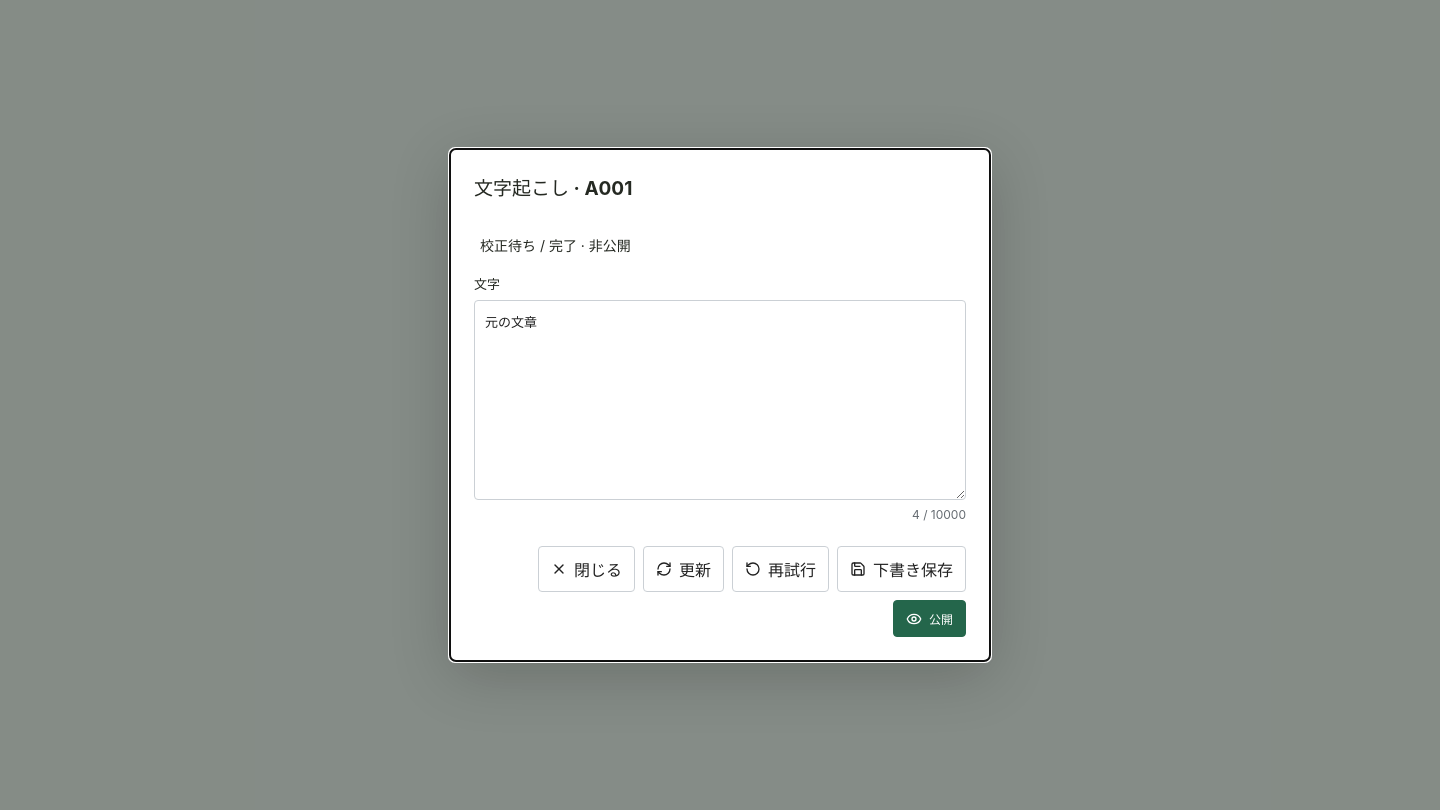
Test: does not reuse a consumed version after a save succeeds but its follow-up read fails
Replace the text in the text box labelled "文字" with "校正を保つ". click: x=720, y=400
box: [474,300,966,500]
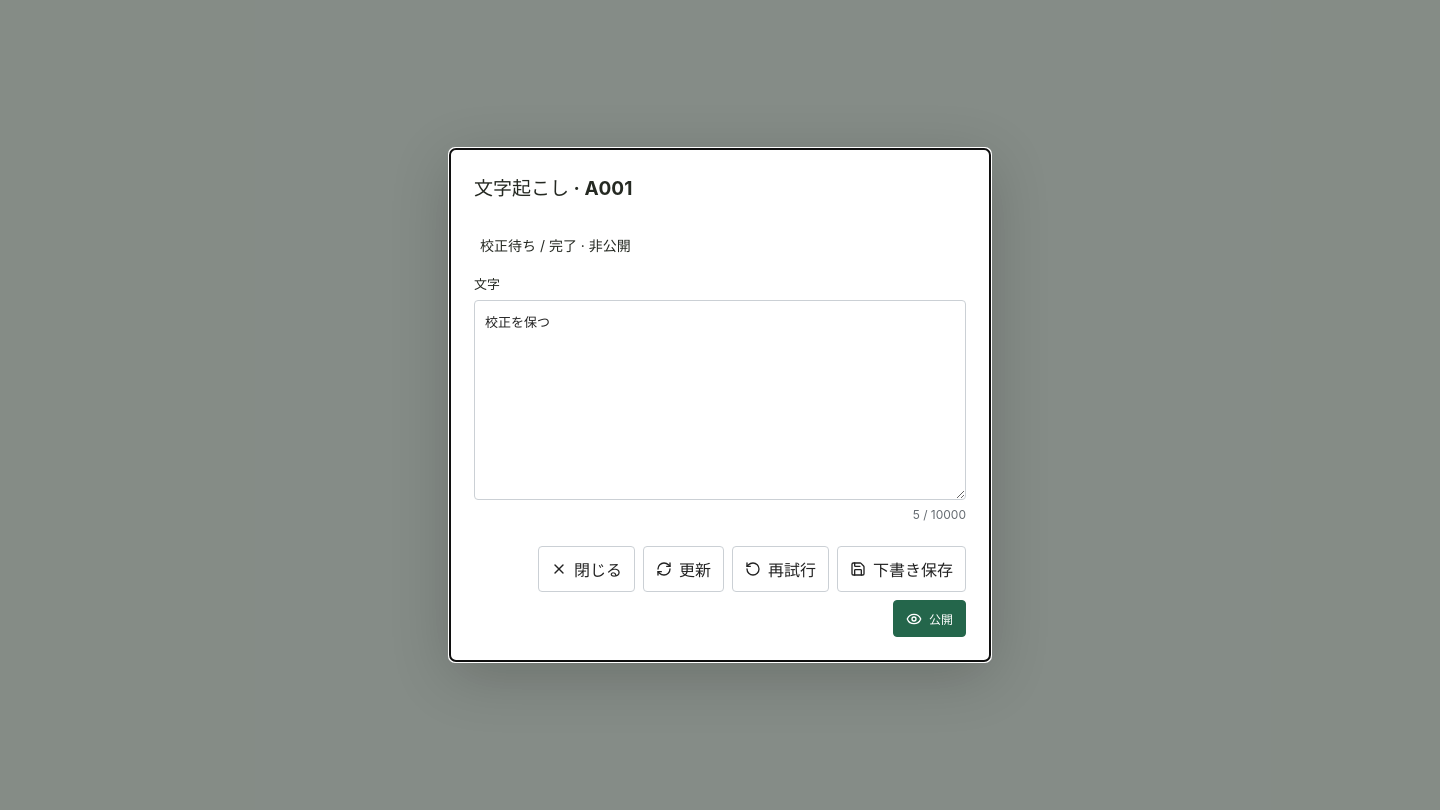
Click the button "下書き保存". click: x=902, y=569
box: [837,546,966,592]
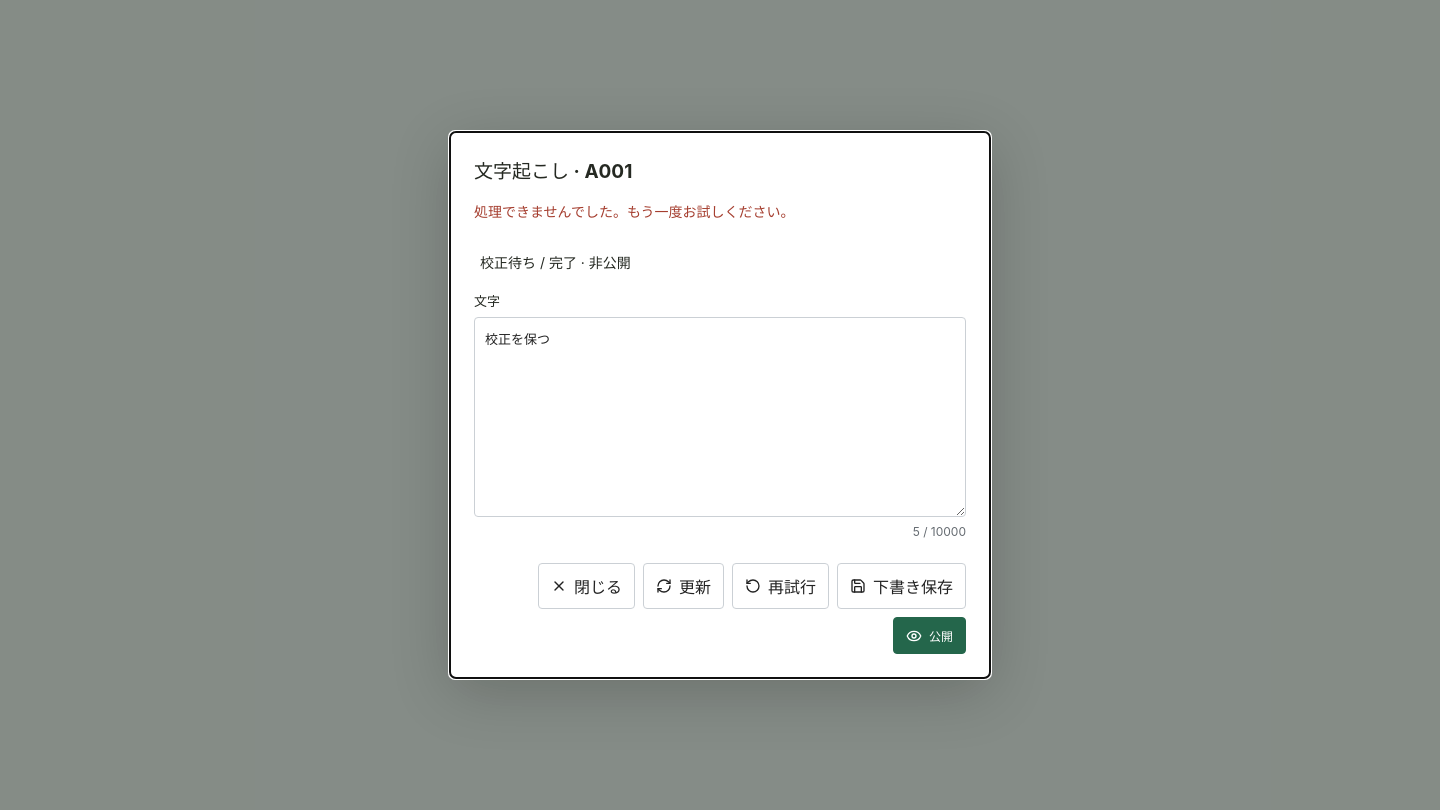
Check: the message "処理できませんでした。もう一度お試しください。" is shown, box [474,203,794,220]
Check: the button "公開" is disabled, box [893,617,966,654]
